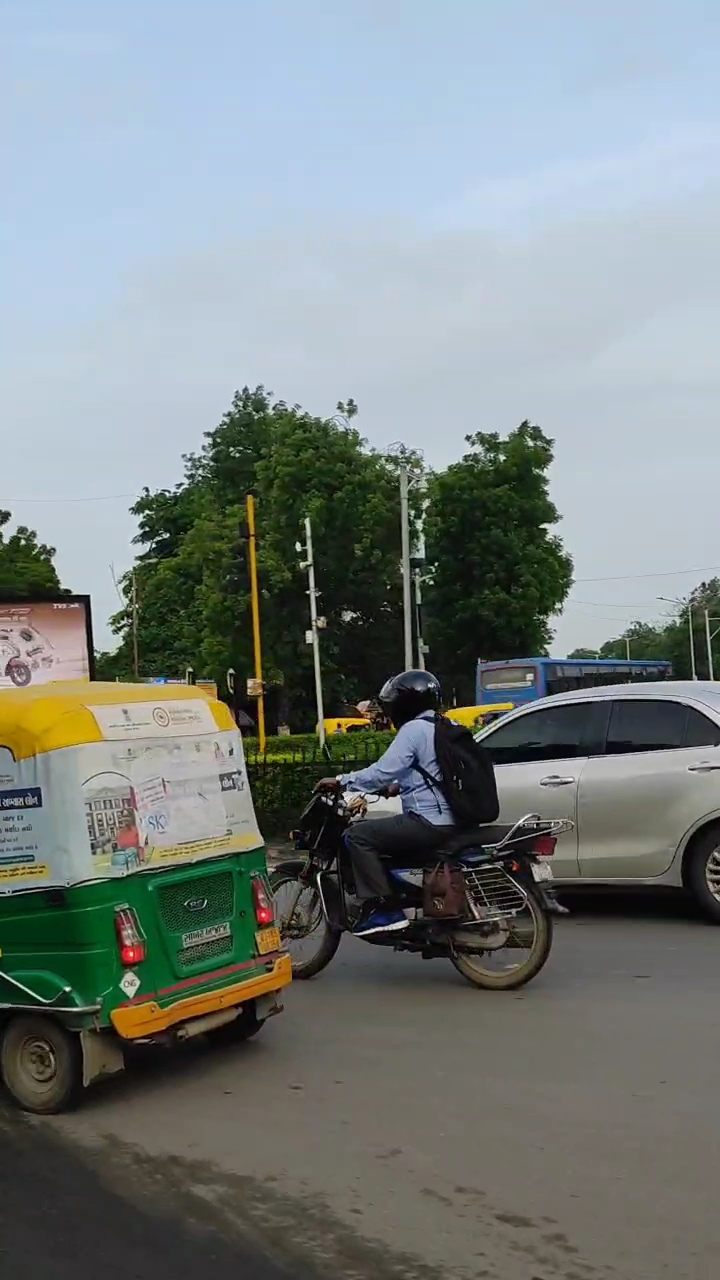BikeWithRider: (259, 660, 580, 999)
Helmet: (371, 661, 450, 733)
